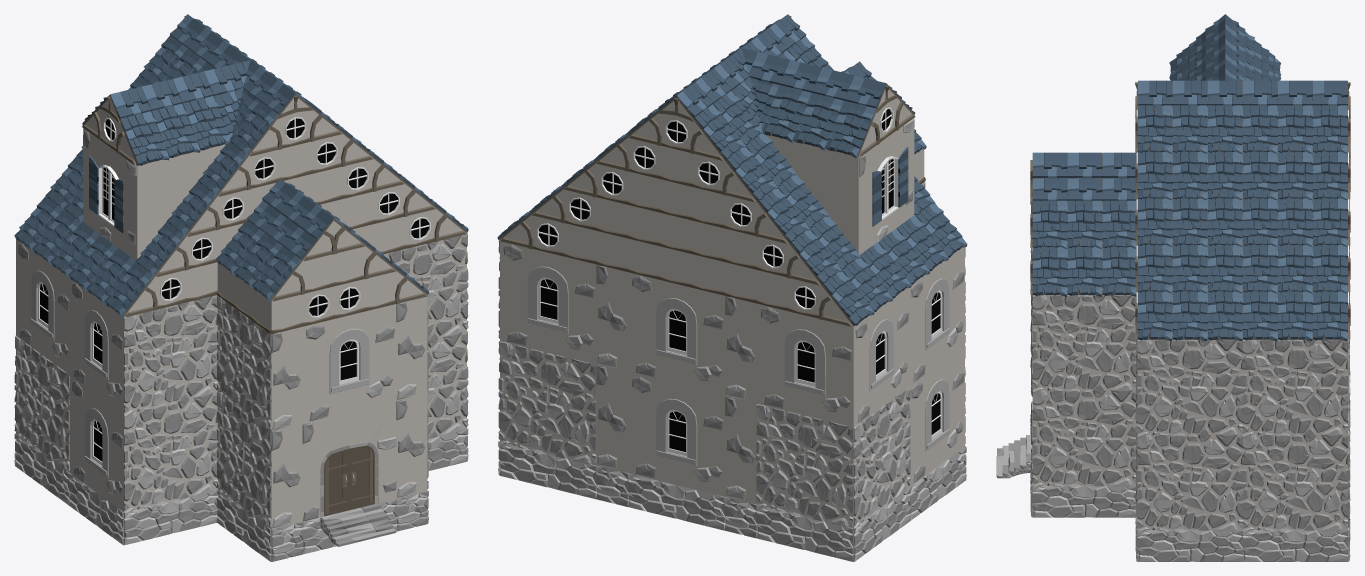
Rendered from house_4.fbx.
3 views of the same model, side by side, from view 1: azimuth 30°, elevation 25°; view 2: azimuth 150°, elevation 25°; view 3: azimuth 270°, elevation 25° (orthographic). The views are drawn at different scales.
Visible parts, largest first — view 1: DOOR_01_2, WINDOW_07_10, WALL_02_30, WALL_02_29, WALL_02_31, WALL_02_27, WALL_02_28, WINDOW_07_11, WINDOW_07_12, WINDOW_07_13, WINDOW_04_2, WALL_02_25 (+90 smaller); view 2: WALL_02_17, WALL_02_18, WINDOW_07_16, WINDOW_07_15, WINDOW_07_17, WINDOW_07_14, WALL_02_31, WINDOW_07_13, WINDOW_04_2, WINDOW_07_12, WINDOW_07_11, FOUNDATION_01_10 (+77 smaller); view 3: WALL_02_21, WALL_02_20, WALL_02_22, WALL_02_19, WALL_02_23, WALL_02_24, FOUNDATION_01_7, FOUNDATION_01_5, FOUNDATION_01_8, ROOF_base_37, ROOF_base_30, ROOF_base_29 (+50 smaller).
Boxes of the visible parts, left/top/right/bottom form: DOOR_01_2: left=302, top=401, right=396, bottom=521; WINDOW_07_10: left=302, top=304, right=396, bottom=423; WALL_02_30: left=124, top=392, right=217, bottom=512; WALL_02_29: left=124, top=295, right=218, bottom=414; WALL_02_31: left=14, top=336, right=69, bottom=472; WALL_02_27: left=216, top=392, right=271, bottom=528; WALL_02_28: left=216, top=295, right=271, bottom=431; WINDOW_07_11: left=70, top=375, right=124, bottom=512; WINDOW_07_12: left=70, top=279, right=123, bottom=414; WINDOW_07_13: left=16, top=239, right=69, bottom=374; WINDOW_04_2: left=83, top=128, right=138, bottom=260; WALL_02_25: left=384, top=233, right=467, bottom=340; WALL_02_17: left=499, top=341, right=596, bottom=465; WALL_02_18: left=756, top=404, right=853, bottom=527; WINDOW_07_16: left=628, top=372, right=724, bottom=496; WINDOW_07_15: left=628, top=272, right=724, bottom=395; WINDOW_07_17: left=500, top=241, right=596, bottom=364; WINDOW_07_14: left=757, top=303, right=854, bottom=426; WALL_02_31: left=851, top=386, right=910, bottom=528; WINDOW_07_13: left=851, top=288, right=909, bottom=427; WINDOW_04_2: left=856, top=118, right=914, bottom=254; WINDOW_07_12: left=909, top=247, right=964, bottom=386; WINDOW_07_11: left=909, top=346, right=964, bottom=486; FOUNDATION_01_10: left=627, top=473, right=725, bottom=530; WALL_02_21: left=1137, top=339, right=1242, bottom=435; WALL_02_20: left=1137, top=435, right=1242, bottom=530; WALL_02_22: left=1243, top=339, right=1347, bottom=435; WALL_02_19: left=1243, top=435, right=1347, bottom=530; WALL_02_23: left=1032, top=390, right=1135, bottom=486; WALL_02_24: left=1032, top=295, right=1136, bottom=390; FOUNDATION_01_7: left=1137, top=530, right=1242, bottom=561; FOUNDATION_01_5: left=1032, top=485, right=1135, bottom=517; FOUNDATION_01_8: left=1243, top=530, right=1347, bottom=561; ROOF_base_37: left=1137, top=290, right=1172, bottom=341; ROOF_base_30: left=1067, top=246, right=1102, bottom=296; ROOF_base_29: left=1032, top=246, right=1067, bottom=296.
Bounding box in the file's own units: 1120 × 1259 × 1012.
